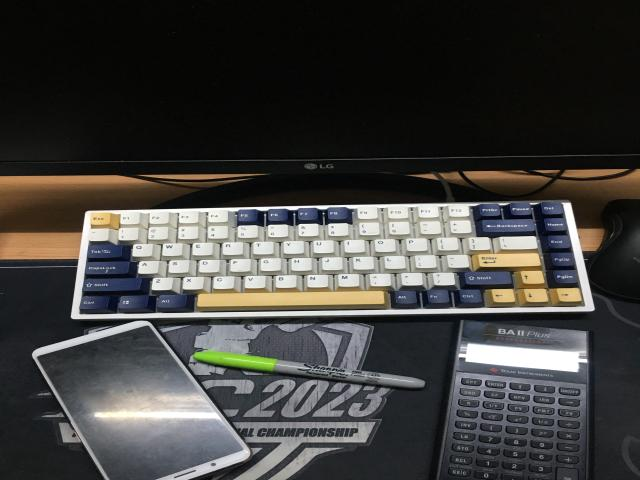Mobile phone: (32, 321, 252, 480)
Mouse: (588, 199, 640, 301)
Pen: (193, 351, 425, 388)
